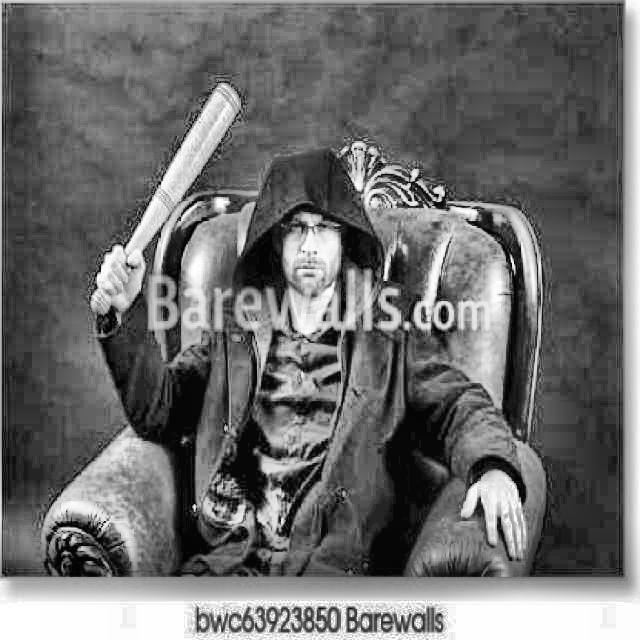tongkat pemukul: (82, 68, 257, 330)
